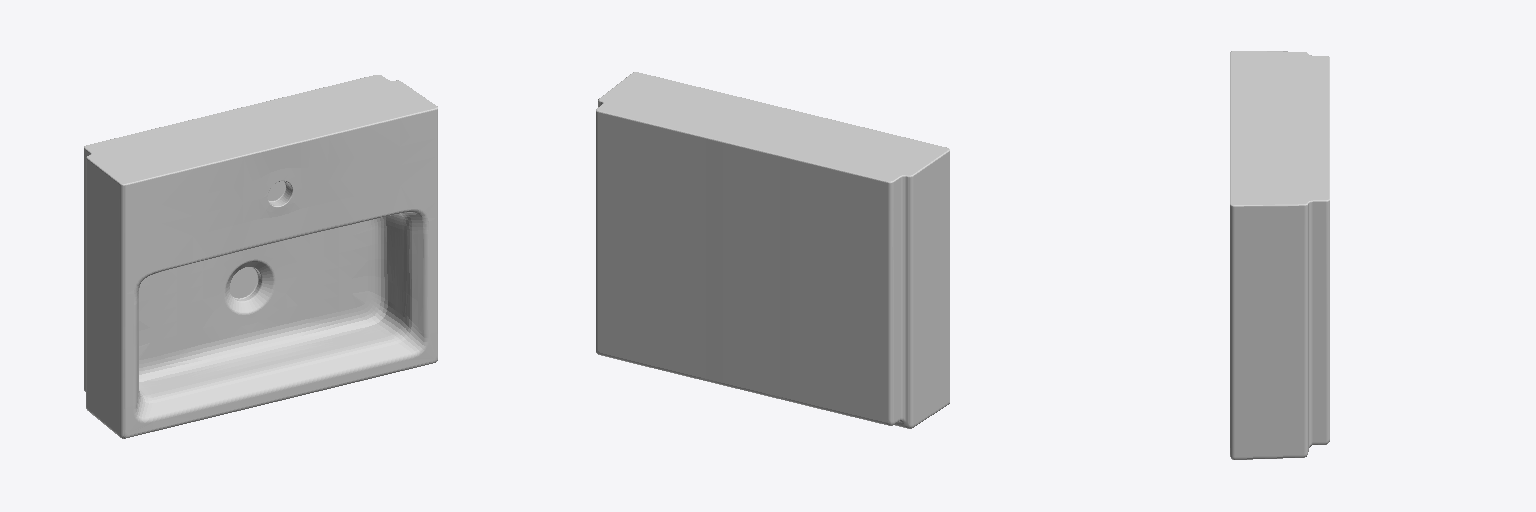
The model's file is Grohe_Cube_3948300H.obj.
The picture shows the model from 3 angles: view 1: azimuth 30°, elevation 25°; view 2: azimuth 150°, elevation 25°; view 3: azimuth 270°, elevation 25°; orthographic projection.
Visible parts, largest first — view 1: Grohe_Cube_[number redacted]H; view 2: Grohe_Cube_[number redacted]H; view 3: Grohe_Cube_[number redacted]H.
Part boxes in pixels (x1,y1,x2,y2): Grohe_Cube_[number redacted]H: (84, 75, 437, 438); Grohe_Cube_[number redacted]H: (596, 72, 949, 428); Grohe_Cube_[number redacted]H: (1230, 51, 1329, 459).
Bounding box in the file's own units: 45.5 × 35 × 12.5.